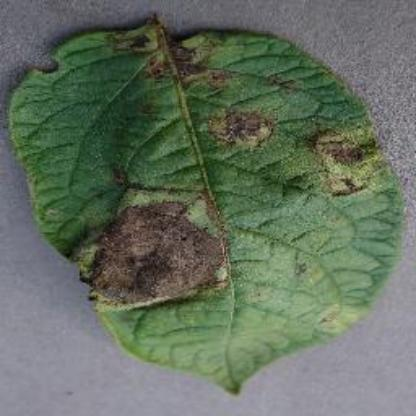Late-Blight: (8, 13, 412, 393)
